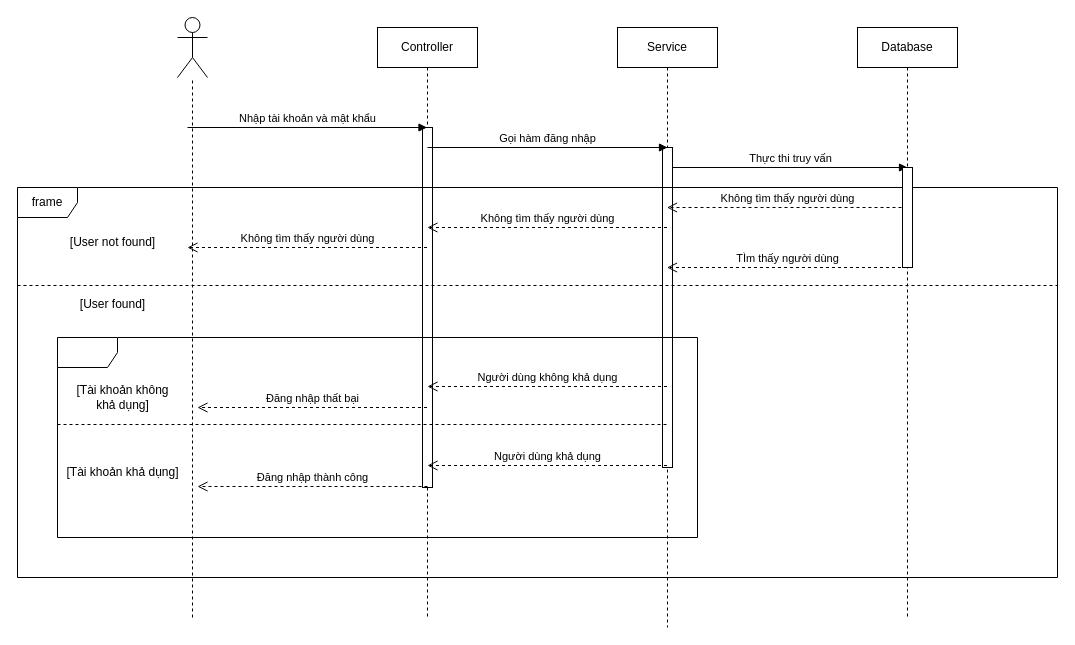
Some shapes in this 1075 by 645 pixel diagram are drawn without their labels. The shapes that lost their labels are listed below. From the top down, each one's box as (x1, y1, x2, y2) in pixels, then its label:
(176, 16, 208, 78): Actor
(56, 336, 698, 538): Alternative
